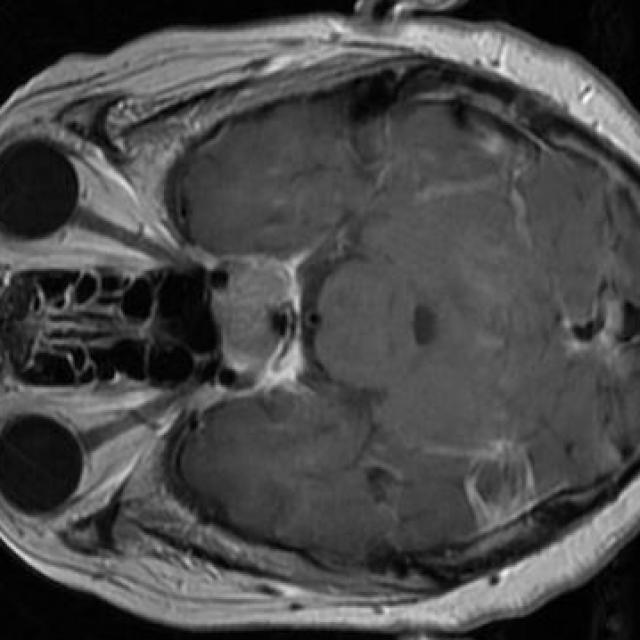pituitary: (212, 262, 289, 374)
